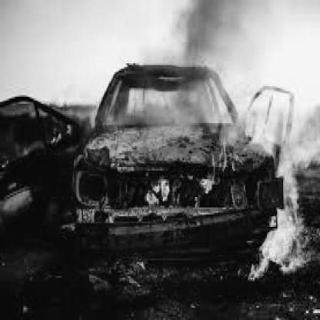Fire: (81, 13, 320, 277)
